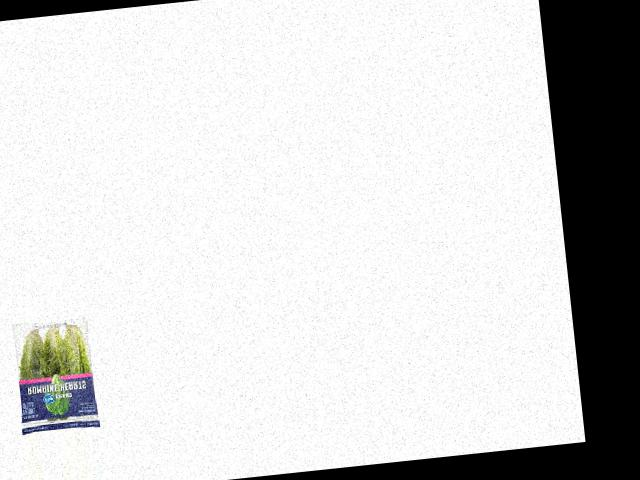lettuce: (8, 319, 103, 433)
